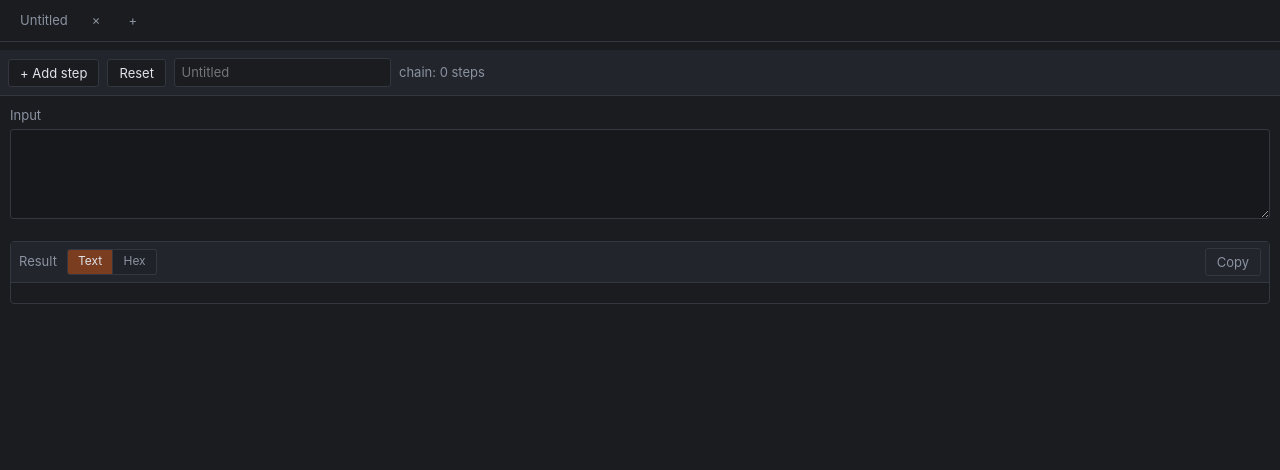
it: DecoderTab › switches a step to encode
Step 1. Type "x" into the text box named "decoder input" → (640, 174), box [10,129,1270,219]
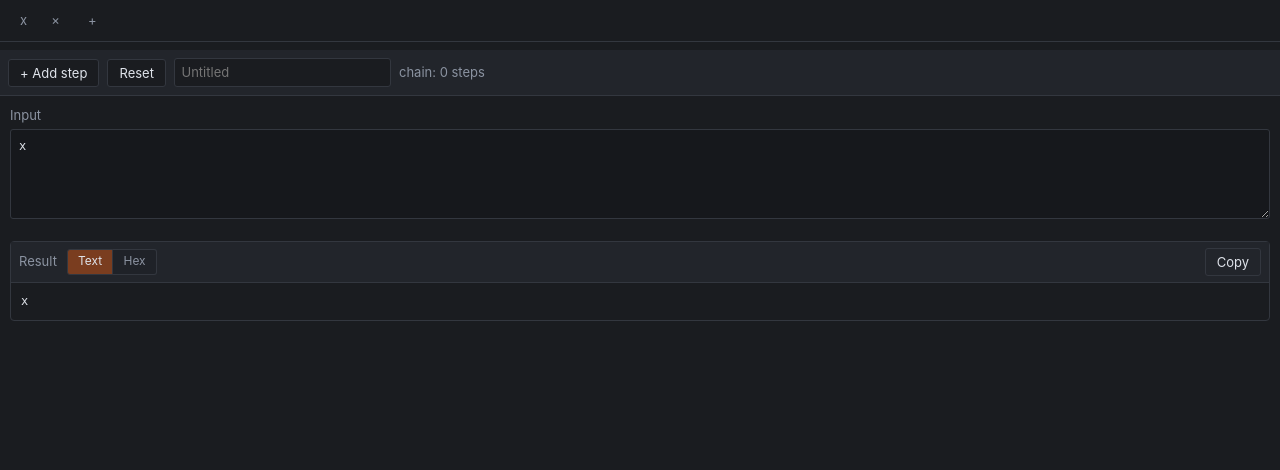
Step 2. Click the button "+ Add step" → (54, 73), box [8,59,99,87]
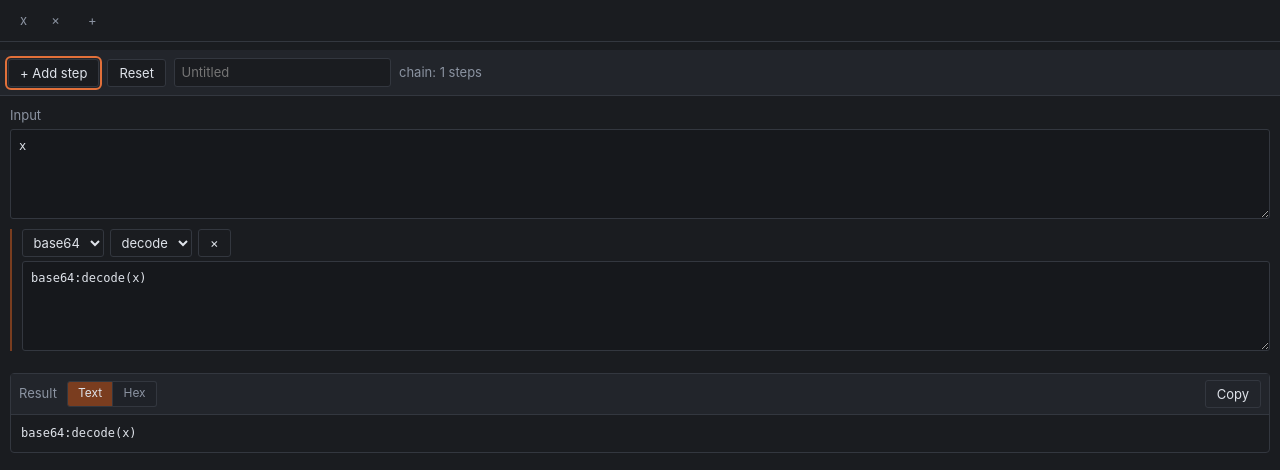
Step 3. Select "encode" in the dropdown named "direction 1" → (151, 243), box [110,229,192,257]
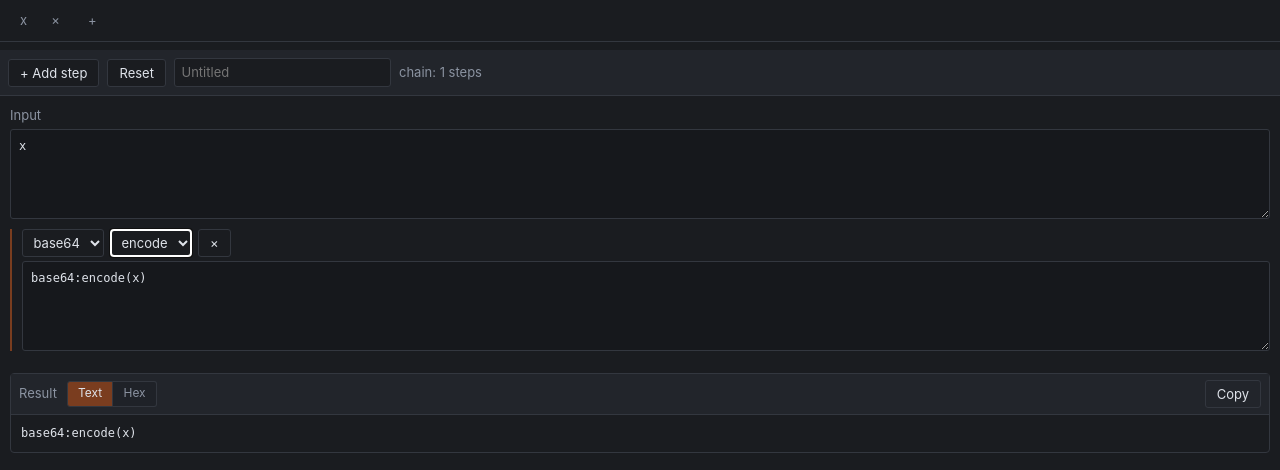
Now the text with class "chain-output" reads "base64:encode(x)", box [31,271,147,285]
